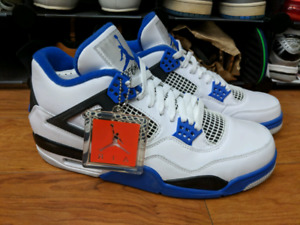Air Jordan 4 Motorsport: (20, 21, 279, 201)
